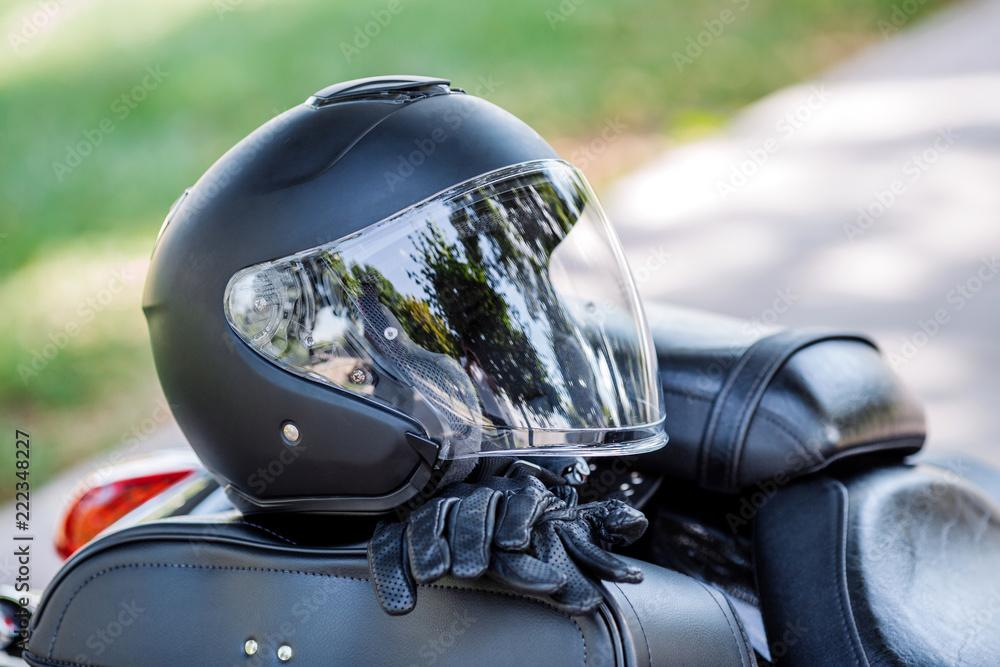helmet: (139, 72, 674, 522)
